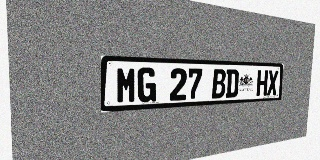2: (170, 68, 187, 101)
7: (186, 68, 203, 100)
B: (212, 69, 226, 98)
D: (225, 69, 239, 98)
G: (137, 67, 156, 103)
H: (256, 70, 268, 96)
M: (116, 67, 137, 104)
X: (267, 70, 278, 95)
